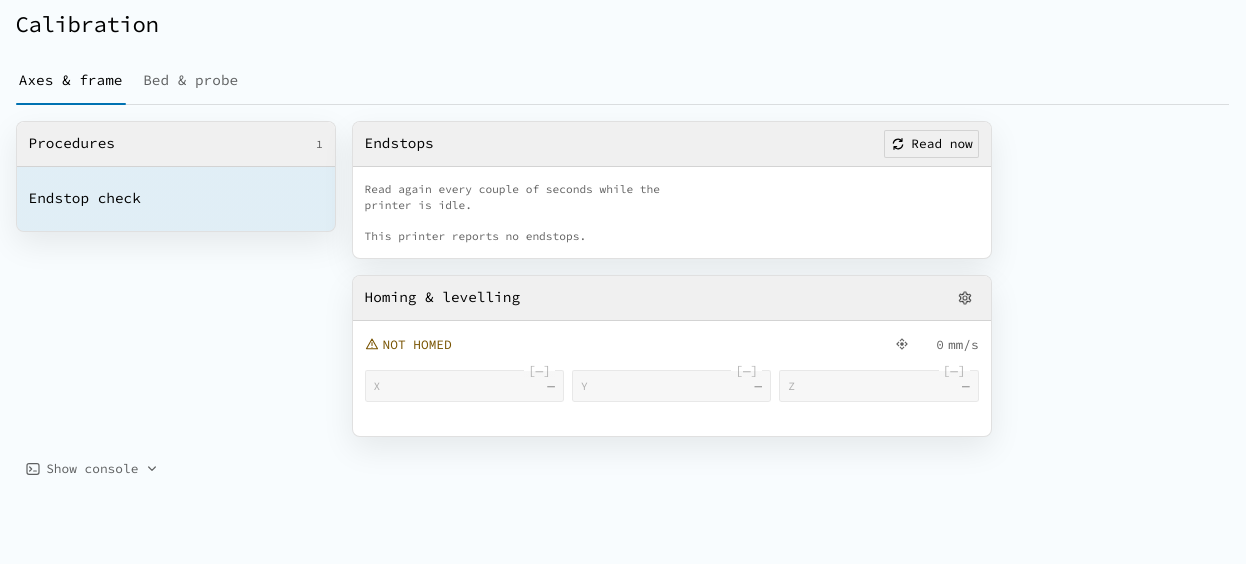
Test: Calibration view › refuses mesh commands while a print is running
The width and height of the screenshot is (1246, 564).
Click the button with class "tab-select" showing "Bed & probe" at (191, 81), box [140, 59, 241, 104]
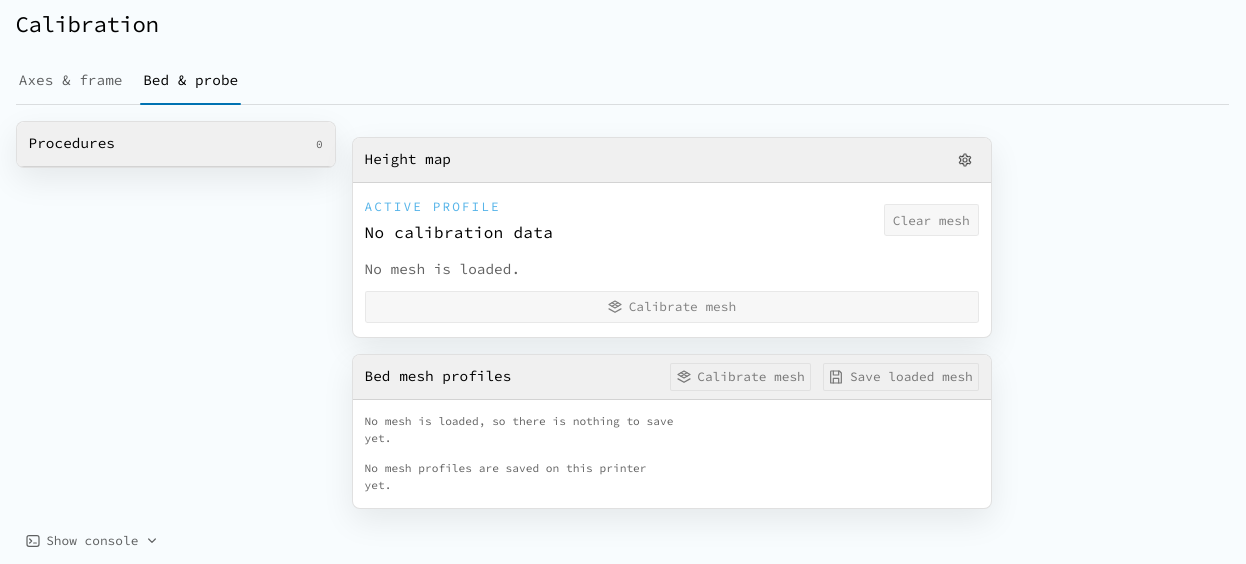
Result: the button "Calibrate mesh" next to "Bed mesh profiles" is disabled at [670, 363, 811, 391]
